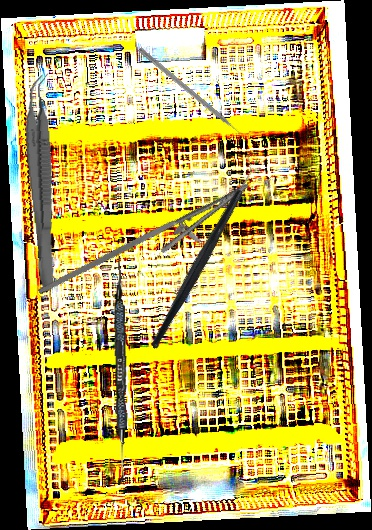Chopper: (97, 152, 307, 350), (133, 47, 247, 145)
Needle Holder: (37, 159, 260, 333)
Spatula Surgical: (110, 255, 131, 486)
Tissue Forceps: (19, 73, 68, 292)
